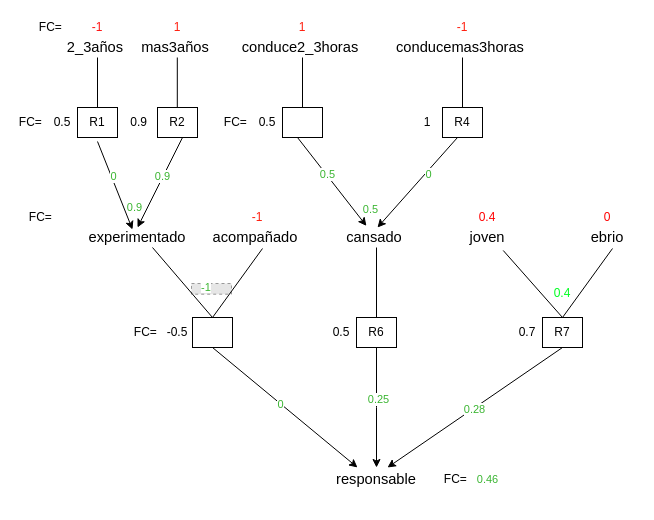
The diagram is 654 pixels wide and 520 high, and some of its shapes have lost their labels. Grey dashed boxes stand in for pictures. Here are the shapes that lost their labels. From the top down, the box of each, then its label:
(282, 106, 322, 138): R3
(192, 316, 232, 348): R5
